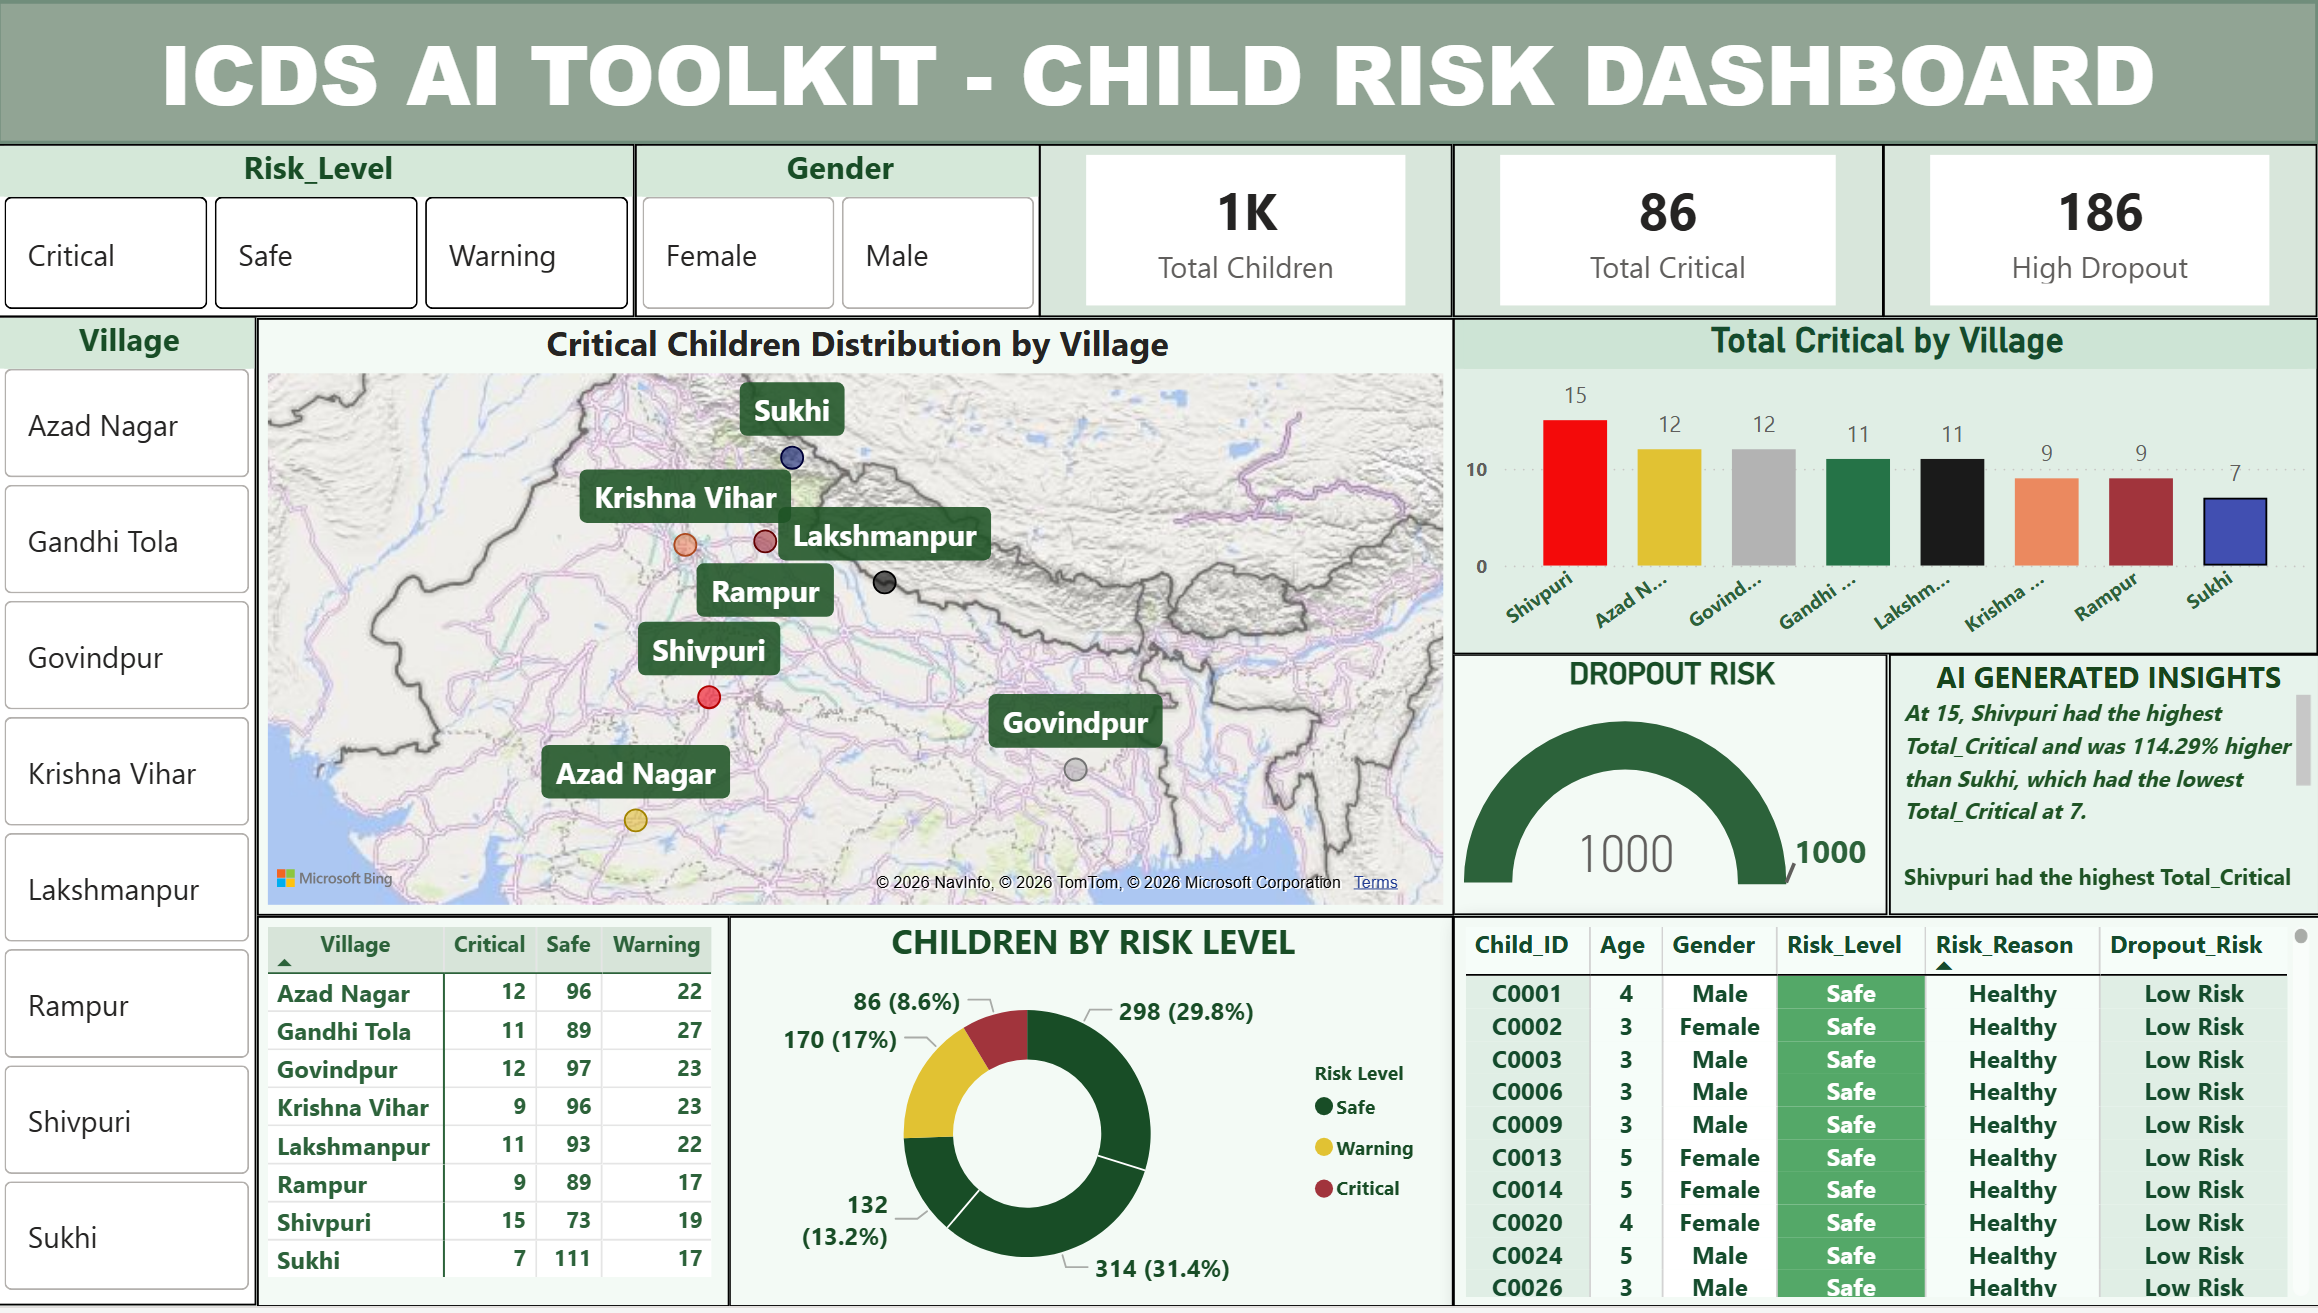

Layout of this report page (visuals, bound fields, positions):
{"tool":"powerbi","page":{"name":" ICDS","canvas":[1280,720],"ordinal":0},"visuals":[{"type":"shape","box":[0,0,1280,79.6],"z":0},{"type":"advancedSlicerVisual","fields":{"Values":["Sheet1.Village"]},"box":[0,174.7,142.8,545.7],"z":1000},{"type":"advancedSlicerVisual","fields":{"Values":["Sheet1.Gender"]},"box":[351.4,79.5,223.5,95.6],"z":2000},{"type":"advancedSlicerVisual","fields":{"Values":["Sheet1.Risk_Level"]},"box":[0,79.5,351.4,95.6],"z":3000},{"type":"donutChart","title":"CHILDREN BY RISK LEVEL","fields":{"Category":["Sheet1.Risk_Level"],"Series":["Sheet1.Risk_Reason"],"Y":["CountNonNull(Sheet1.Child_ID)"]},"box":[403.2,504.6,399.7,215.4],"z":4000},{"type":"gauge","title":"DROPOUT RISK","fields":{"TargetValue":["Sheet1.Total_Children"],"Y":["CountNonNull(Sheet1.Dropout_Risk)"]},"box":[802.9,360.6,239.6,144],"z":5000},{"type":"tableEx","fields":{"Values":["Sheet1.Child_ID","Sheet1.Age","Sheet1.Gender","Sheet1.Risk_Level","Sheet1.Risk_Reason","Sheet1.Dropout_Risk"]},"box":[802.9,504.6,478.1,215.4],"z":6000},{"type":"pivotTable","fields":{"Rows":["Sheet1.Village"],"Columns":["Sheet1.Risk_Level"],"Values":["Count(Sheet1.Child_ID)"]},"box":[142.8,504.6,260.4,215.4],"z":7000},{"type":"cardVisual","fields":{"Data":["Count(Sheet1.Child_ID)"]},"box":[574.8,79.5,228.1,95.6],"z":8000},{"type":"cardVisual","fields":{"Data":["Sheet1.Total_Critical"]},"box":[802.9,79.5,237.3,95.6],"z":9000},{"type":"cardVisual","fields":{"Data":["Sheet1.High_Dropout"]},"box":[1040.3,79.5,239.6,95.6],"z":10000},{"type":"map","title":"Critical Children Distribution by Village","fields":{"Category":["Sheet1.Village"]},"box":[142.8,175.1,660.1,329.5],"z":11000},{"type":"columnChart","title":"Total Critical by Village","fields":{"Y":["Sheet1.Total_Critical"],"Category":["Sheet1.Village"]},"box":[802.9,175.1,476.9,185.5],"z":12000},{"type":"textbox","title":"AI GENERATED INSIGHTS","box":[1042.6,360.6,237.3,144],"z":13000}]}

Visuals, with their boxes in screenshot pixels (x1, y1, x2, y2), scaled from the page's 1280x720 canvas onto the 2318x1313 screenshot:
shape: locate(0, 0, 2317, 145)
advancedSlicerVisual - Sheet1.Village: locate(0, 319, 259, 1312)
advancedSlicerVisual - Sheet1.Gender: locate(636, 145, 1041, 319)
advancedSlicerVisual - Sheet1.Risk_Level: locate(0, 145, 636, 319)
"CHILDREN BY RISK LEVEL" donutChart: locate(730, 920, 1454, 1312)
"DROPOUT RISK" gauge: locate(1454, 658, 1888, 920)
tableEx - Sheet1.Child_ID x Sheet1.Age: locate(1454, 920, 2317, 1312)
pivotTable - Sheet1.Village x Sheet1.Risk_Level: locate(259, 920, 730, 1312)
cardVisual - Count(Sheet1.Child_ID): locate(1041, 145, 1454, 319)
cardVisual - Sheet1.Total_Critical: locate(1454, 145, 1884, 319)
cardVisual - Sheet1.High_Dropout: locate(1884, 145, 2317, 319)
"Critical Children Distribution by Village" map: locate(259, 319, 1454, 920)
"Total Critical by Village" columnChart: locate(1454, 319, 2317, 658)
"AI GENERATED INSIGHTS" textbox: locate(1888, 658, 2317, 920)
